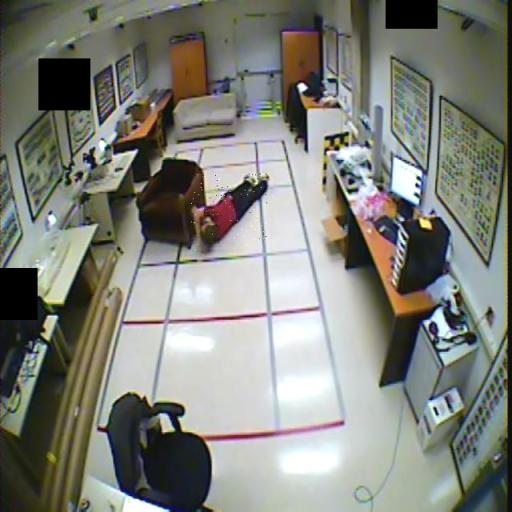Fall: (191, 175, 270, 252)
